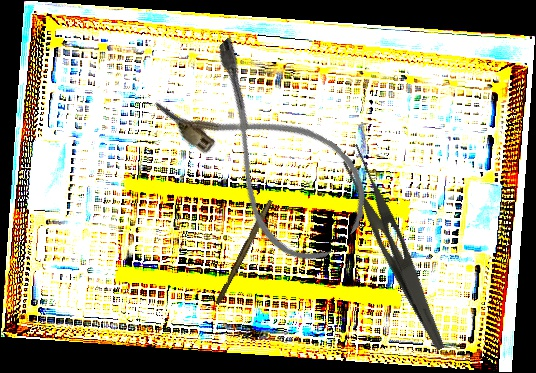Cannula: (149, 31, 389, 278)
Dressing Forceps: (328, 142, 468, 352)
Scalpel Handle: (214, 197, 273, 307)
